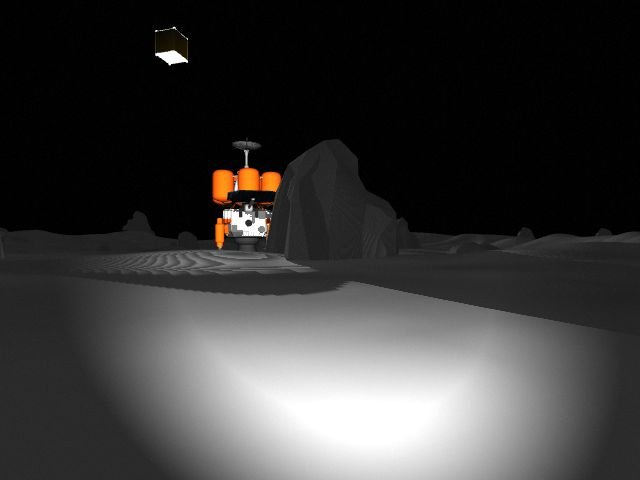cubesat: (145, 22, 197, 72)
